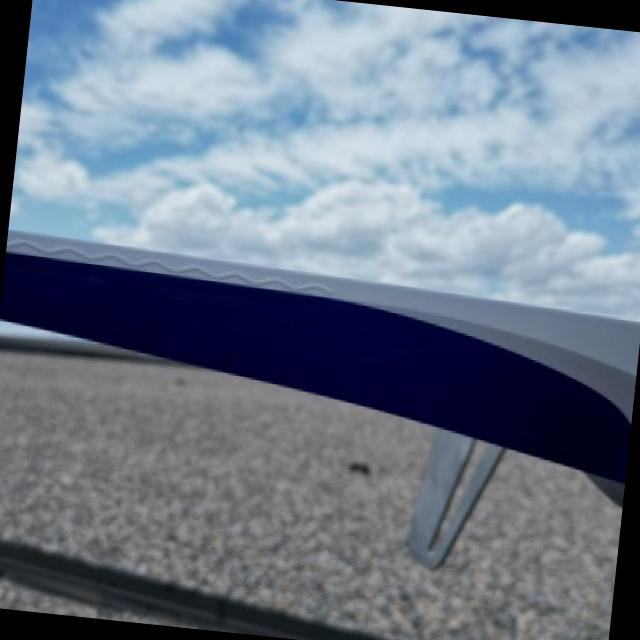healthy: (0, 229, 639, 504)
